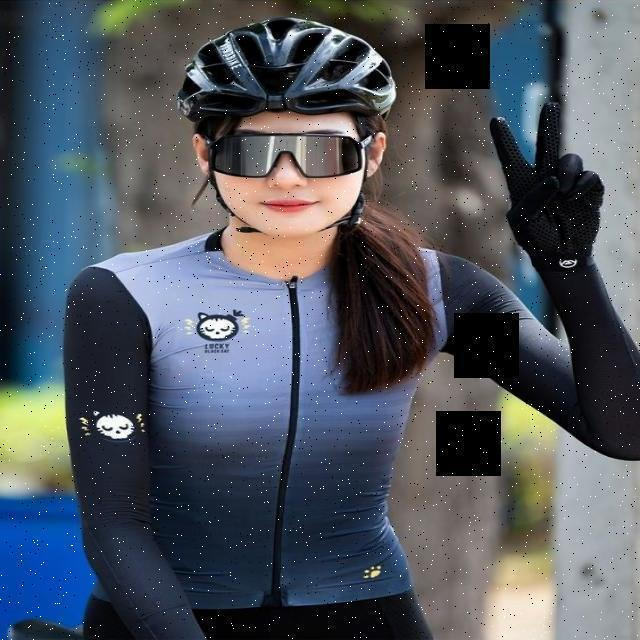helmet: (180, 20, 398, 238)
